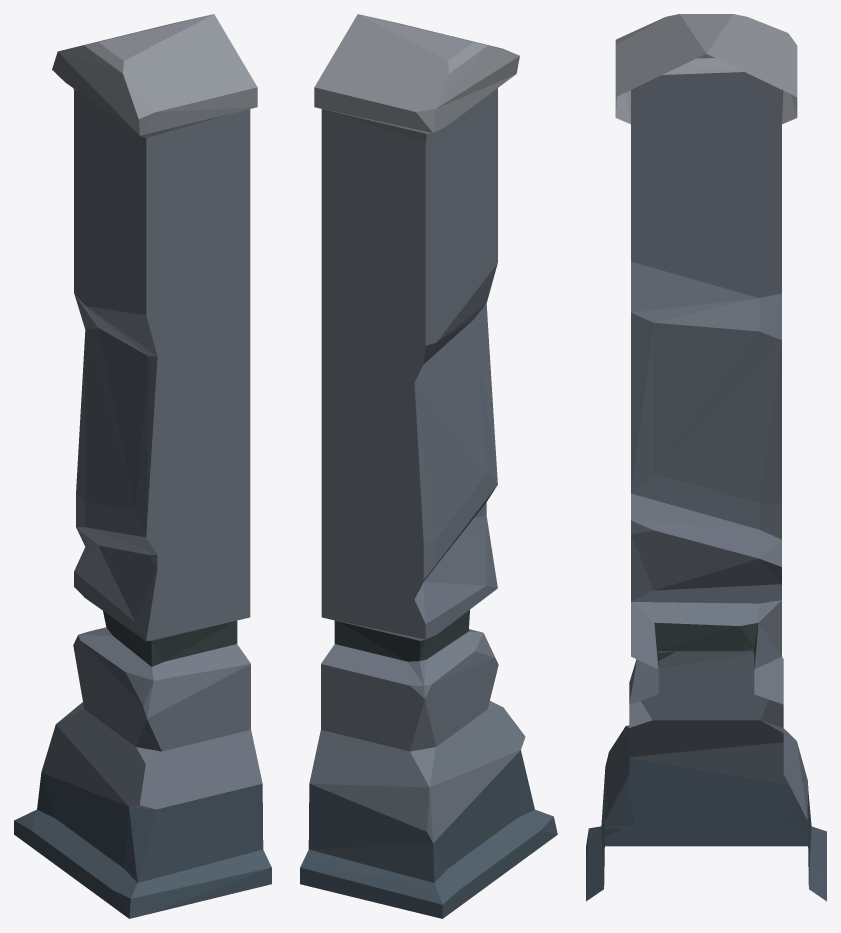
Rendered from End2.fbx.
3 renders of one model, left to right at view 1: azimuth 30°, elevation 25°; view 2: azimuth 150°, elevation 25°; view 3: azimuth 270°, elevation 25°, orthographic. The views are drawn at different scales.
Parts seen in each view (by area): view 1: End2; view 2: End2; view 3: End2.
Part boxes in pixels (box(x1,y1,x2,y2)): End2: box(14, 14, 271, 918); End2: box(300, 14, 557, 918); End2: box(586, 14, 826, 901).
Bounding box in the file's own units: 85.67 × 476 × 120.
